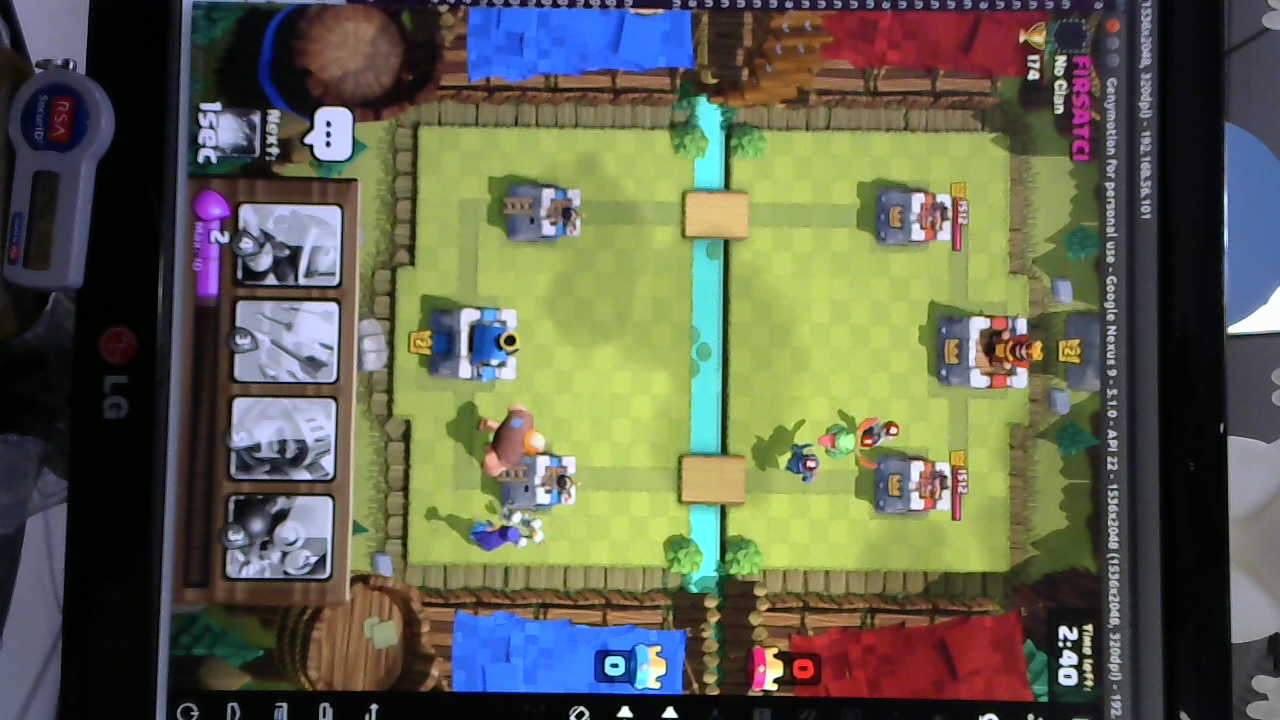arena: (500, 176, 587, 243), (502, 449, 577, 513)
bomb: (858, 407, 901, 449)
dragon: (823, 419, 862, 464)
earena: (868, 456, 957, 523), (874, 188, 954, 249)
eking: (933, 312, 1038, 394)
giant: (475, 400, 541, 479)
king: (432, 302, 523, 388)
minipekka: (780, 444, 821, 484)
skeleton: (505, 507, 549, 537)
witch: (467, 516, 525, 555)
